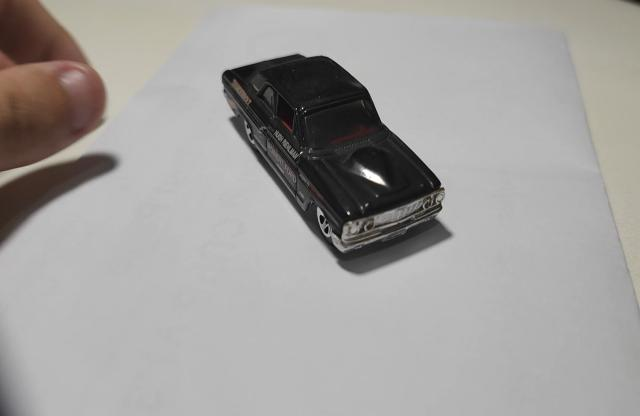01_FORD: (220, 55, 445, 257)
